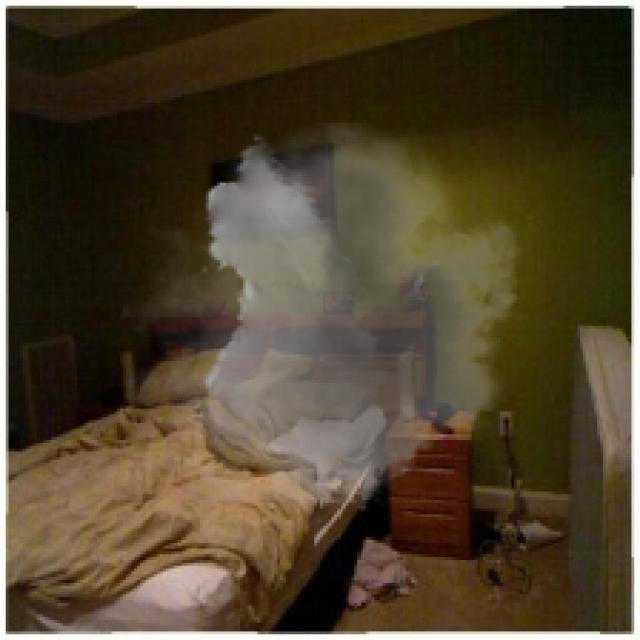smoke: (120, 120, 540, 526)
